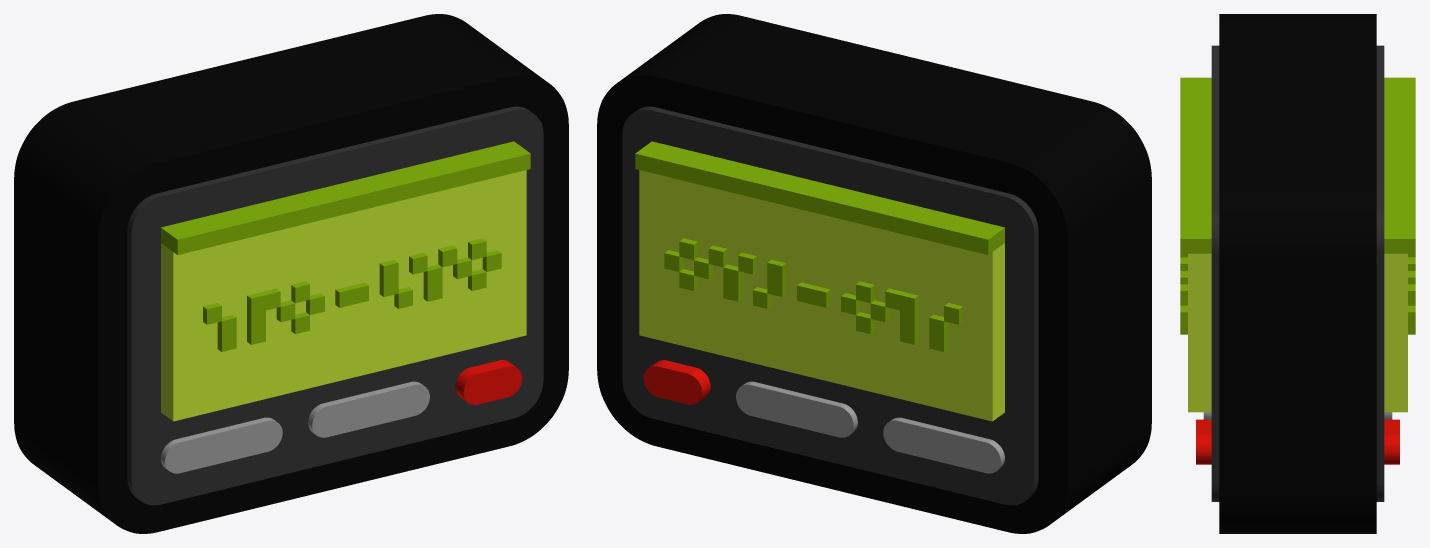
3 views of the same model, side by side, from view 1: azimuth 30°, elevation 25°; view 2: azimuth 150°, elevation 25°; view 3: azimuth 270°, elevation 25° (orthographic). The views are drawn at different scales.
Parts seen in each view (by area): view 1: U+1F4DF_layer00_obj00, U+1F4DF_layer04_obj00, U+1F4DF_layer01_obj00, U+1F4DF_layer05_obj00, U+1F4DF_layer02_obj00, U+1F4DF_layer03_obj00; view 2: U+1F4DF_layer00_obj00, U+1F4DF_layer04_obj00, U+1F4DF_layer01_obj00, U+1F4DF_layer05_obj00, U+1F4DF_layer02_obj00, U+1F4DF_layer03_obj00; view 3: U+1F4DF_layer00_obj00, U+1F4DF_layer05_obj00, U+1F4DF_layer01_obj00, U+1F4DF_layer04_obj00, U+1F4DF_layer03_obj00.
Part boxes in pixels (box(x1,y1,x2,y2)): U+1F4DF_layer00_obj00: box(14, 14, 568, 533); U+1F4DF_layer04_obj00: box(161, 170, 526, 421); U+1F4DF_layer01_obj00: box(127, 106, 543, 505); U+1F4DF_layer05_obj00: box(161, 141, 530, 351); U+1F4DF_layer02_obj00: box(161, 381, 429, 473); U+1F4DF_layer03_obj00: box(455, 360, 522, 404); U+1F4DF_layer00_obj00: box(597, 14, 1151, 533); U+1F4DF_layer04_obj00: box(639, 170, 1004, 421); U+1F4DF_layer01_obj00: box(622, 106, 1038, 505); U+1F4DF_layer05_obj00: box(635, 141, 1004, 351); U+1F4DF_layer02_obj00: box(736, 381, 1004, 473); U+1F4DF_layer03_obj00: box(643, 360, 710, 404); U+1F4DF_layer00_obj00: box(1219, 14, 1376, 533); U+1F4DF_layer05_obj00: box(1180, 77, 1415, 334); U+1F4DF_layer01_obj00: box(1211, 45, 1384, 501); U+1F4DF_layer04_obj00: box(1188, 253, 1407, 412); U+1F4DF_layer03_obj00: box(1196, 419, 1399, 464).
Bounding box in the file's own units: 0.6491 × 0.4867 × 0.3.
